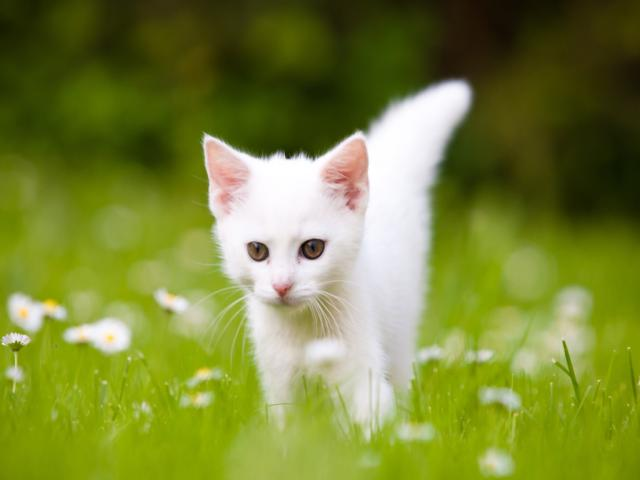Cat: (202, 79, 472, 430)
